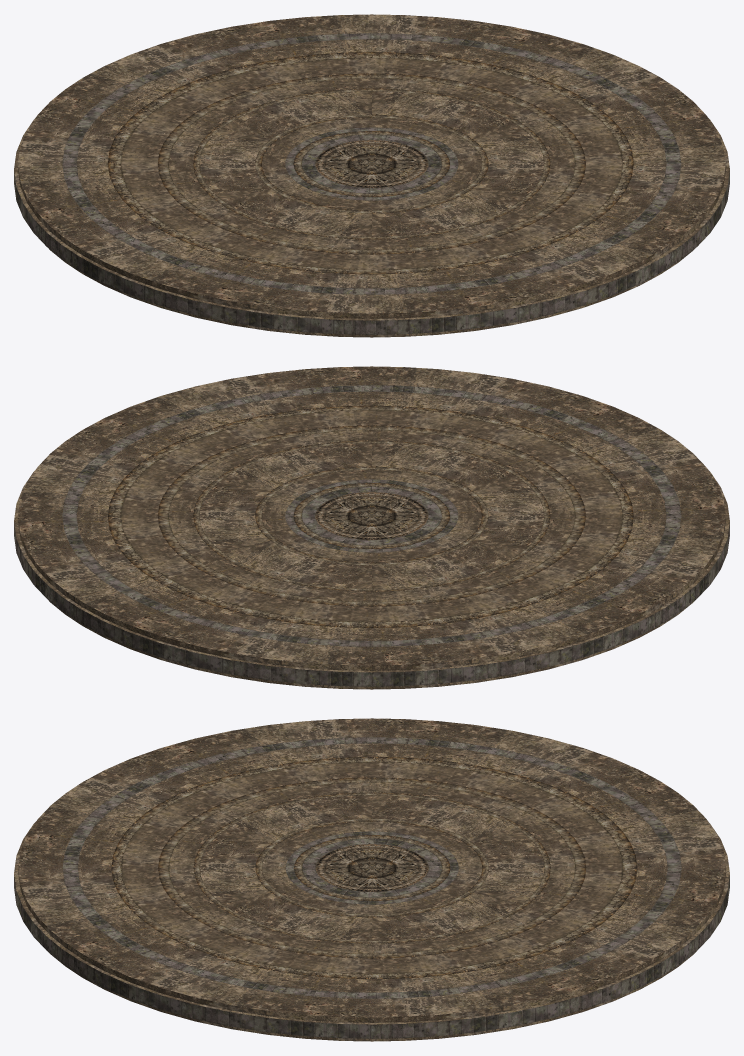
Rendered from materials_5_floor_round_4.fbx.
The picture shows the model from 3 angles, top to bottom: view 1: azimuth 30°, elevation 25°; view 2: azimuth 150°, elevation 25°; view 3: azimuth 270°, elevation 25°; orthographic projection.
Parts seen in each view (by area): view 1: materials_5_floor_round_4; view 2: materials_5_floor_round_4; view 3: materials_5_floor_round_4.
Boxes of the visible parts, x1,y1,x2,y2 form: materials_5_floor_round_4: (14, 14, 729, 337); materials_5_floor_round_4: (14, 366, 729, 689); materials_5_floor_round_4: (14, 718, 729, 1041).
Bounding box in the file's own units: 1055 × 38.87 × 1055.
